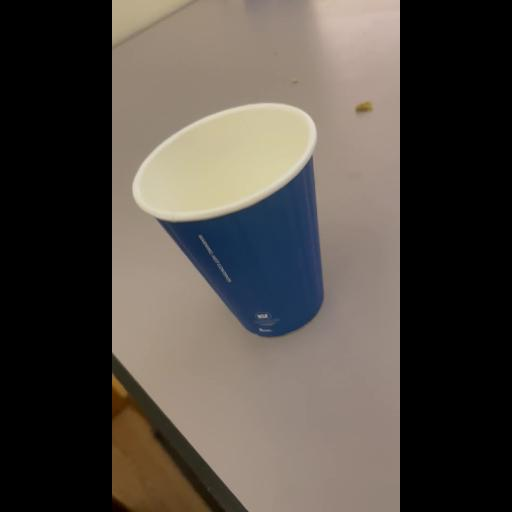lp_paper_cup: (130, 98, 330, 348)
